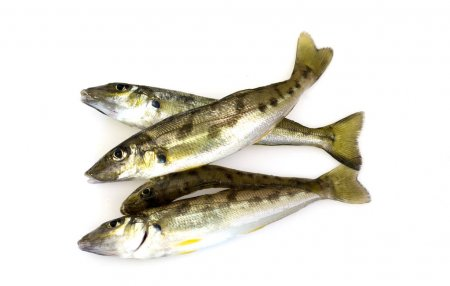kiss: (87, 33, 331, 181), (82, 77, 369, 172), (74, 171, 372, 260)
